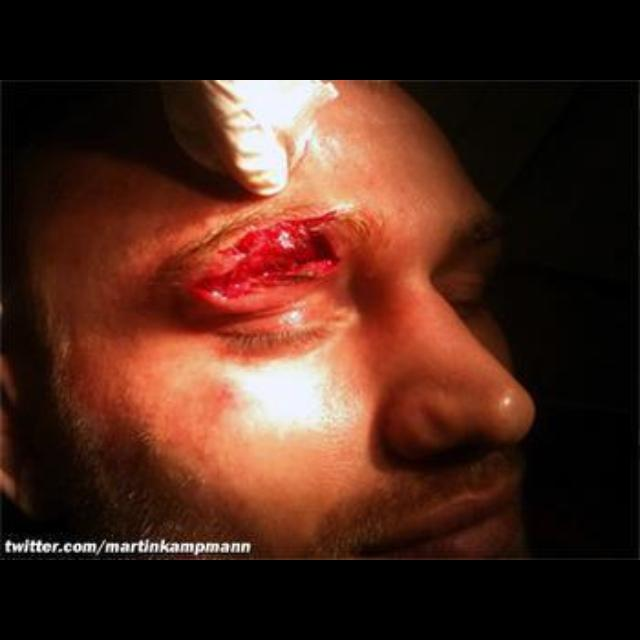blood: (196, 214, 340, 299)
